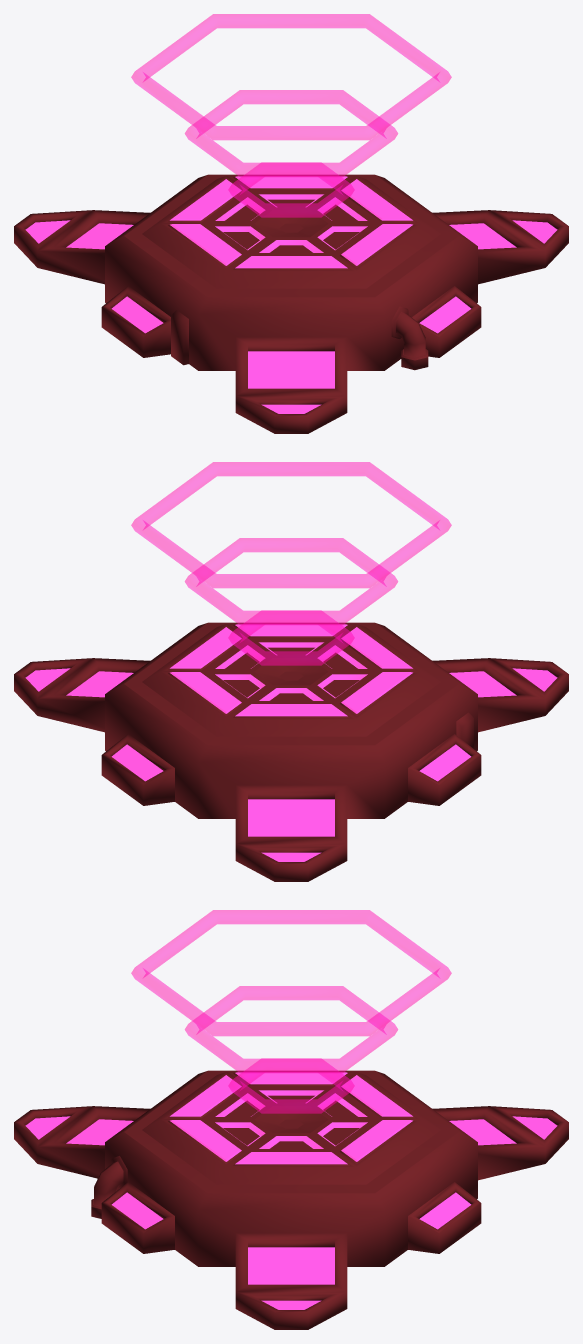
Rendered from jumpPad.fbx.
3 renders of one model, top to bottom at view 1: azimuth 30°, elevation 25°; view 2: azimuth 150°, elevation 25°; view 3: azimuth 270°, elevation 25°, orthographic.
Parts seen in each view (by area): view 1: Base, Transparent, Neon, Base2; view 2: Base, Transparent, Neon, Base2; view 3: Base, Transparent, Neon, Base2.
Part boxes in pixels (x1=…): Base: x1=14, y1=175, x2=568, y2=433; Transparent: x1=131, y1=14, x2=451, y2=217; Neon: x1=25, y1=176, x2=557, y2=413; Base2: x1=124, y1=174, x2=458, y2=360; Base: x1=14, y1=623, x2=568, y2=881; Transparent: x1=131, y1=462, x2=451, y2=665; Neon: x1=25, y1=624, x2=557, y2=861; Base2: x1=124, y1=622, x2=458, y2=745; Base: x1=14, y1=1071, x2=568, y2=1329; Transparent: x1=131, y1=910, x2=451, y2=1113; Neon: x1=25, y1=1072, x2=557, y2=1309; Base2: x1=91, y1=1070, x2=458, y2=1209.
Bounding box in the file's own units: 407 × 205 × 446.
